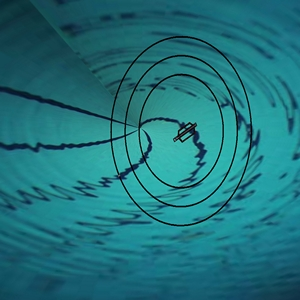circle: (107, 30, 260, 239)
submarine: (165, 110, 202, 154)
